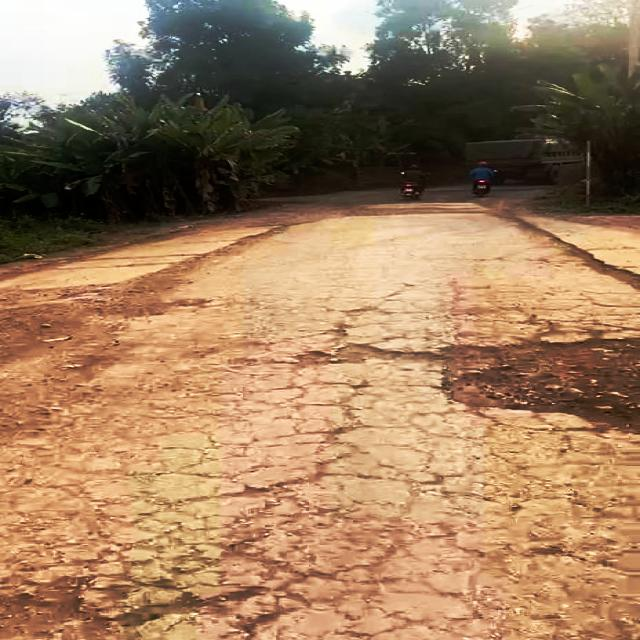pothole: (401, 331, 640, 436), (0, 568, 222, 640), (284, 337, 446, 366)
